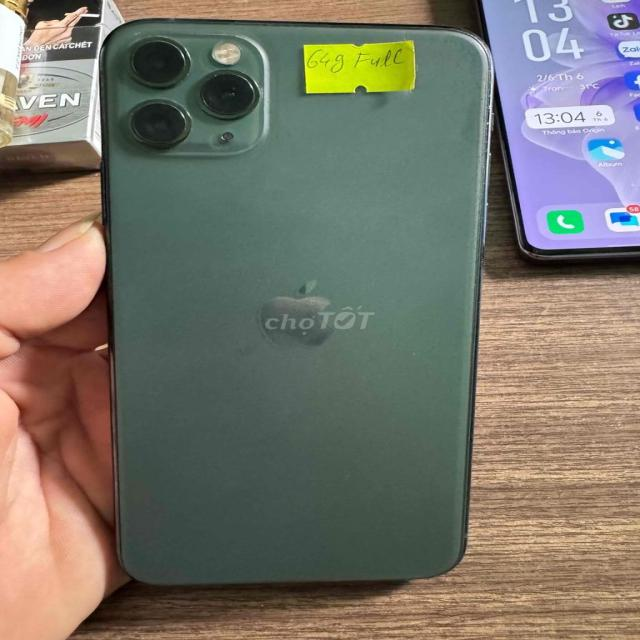gen_11: (87, 12, 497, 600)
